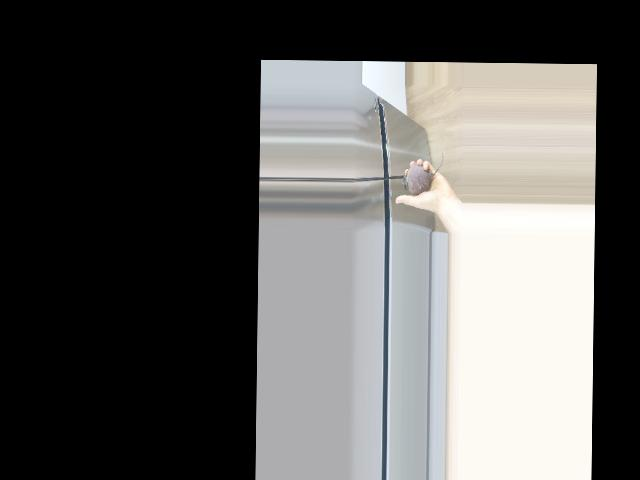beet: (402, 150, 443, 195)
